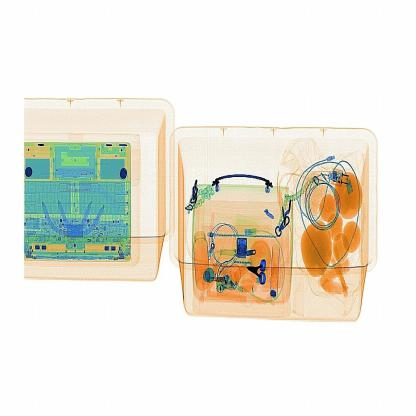gun: (243, 244, 274, 291)
